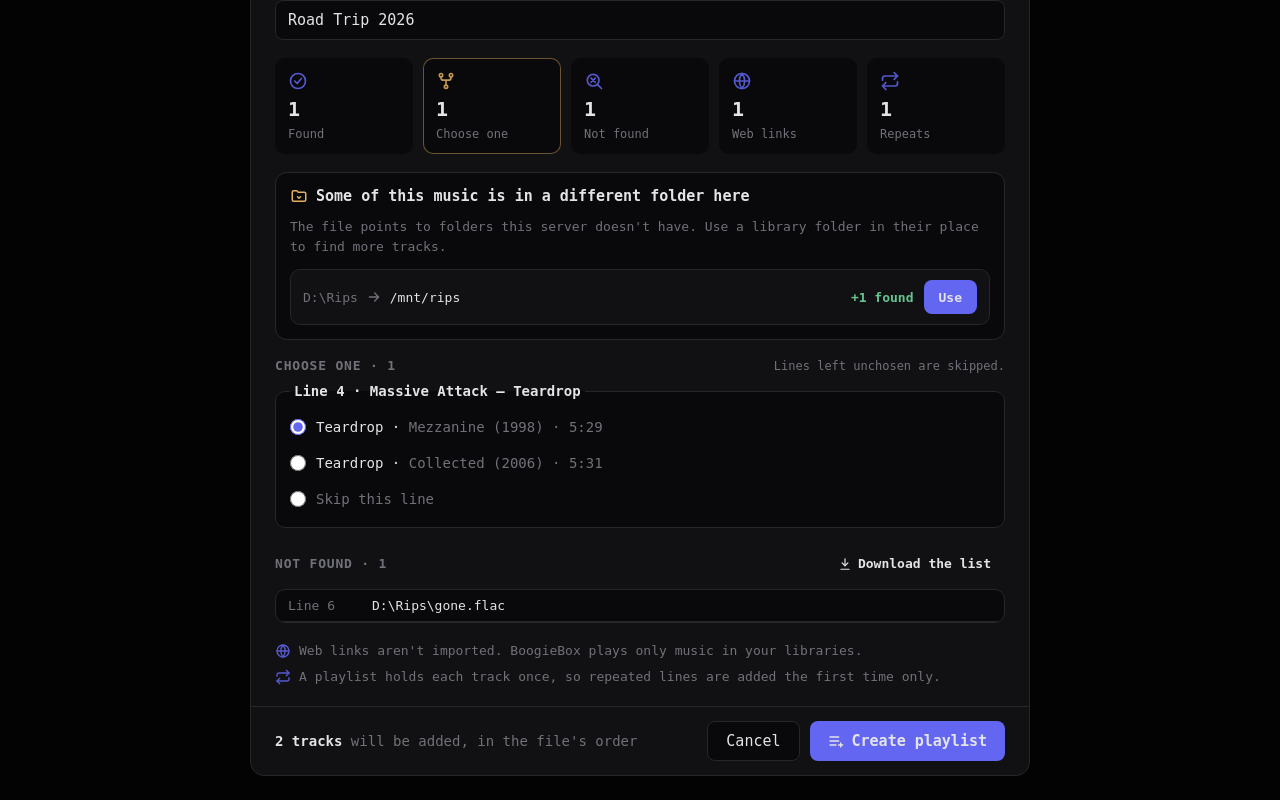
it: PlaylistImportDialog › shows the name-taken error under the name and other failures as an alert
This screenshot has width=1280, height=800.
(page scrolled)
Click the button "Create playlist". click: (907, 741)
box: [810, 721, 1005, 761]
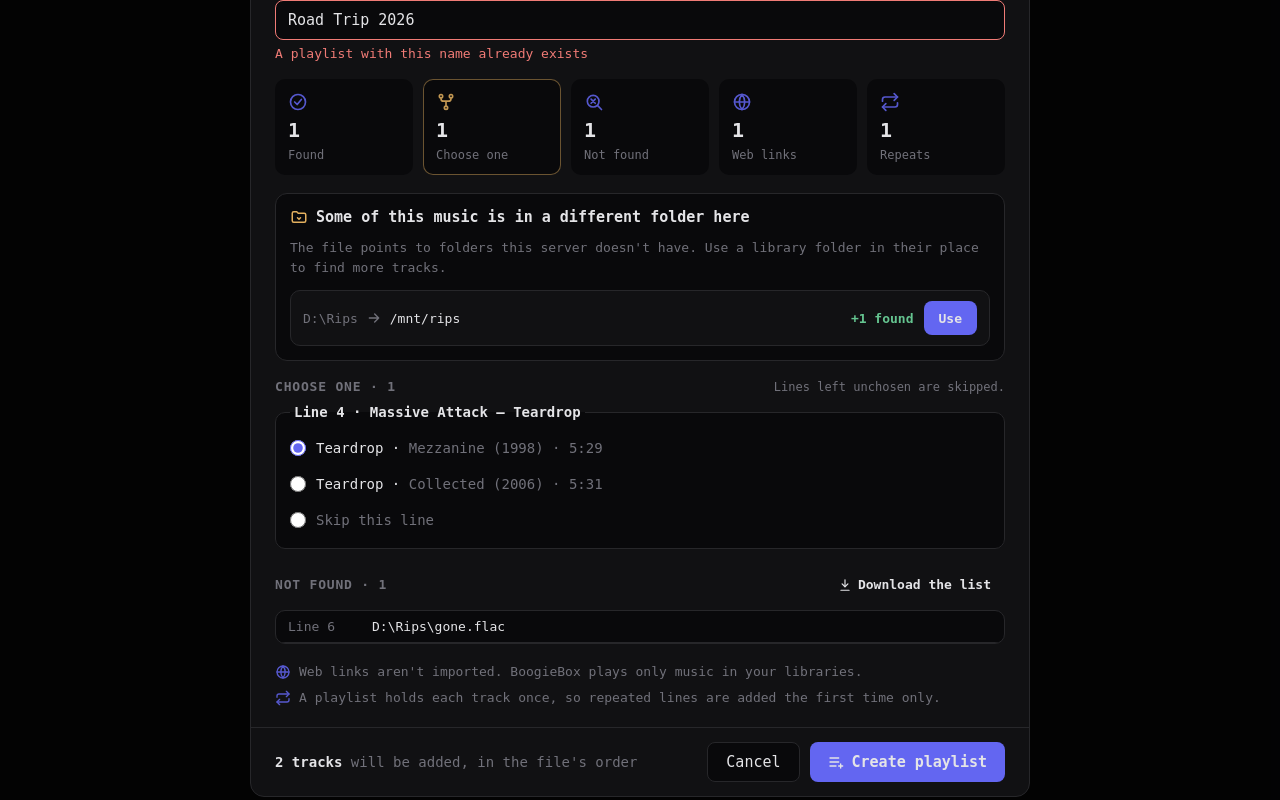
Now the text "A playlist with this name already exists" is shown, box [275, 46, 588, 61]
Replace the text in the field labelled "Playlist name" with "Other". click: (640, 20)
box: [275, 0, 1005, 40]
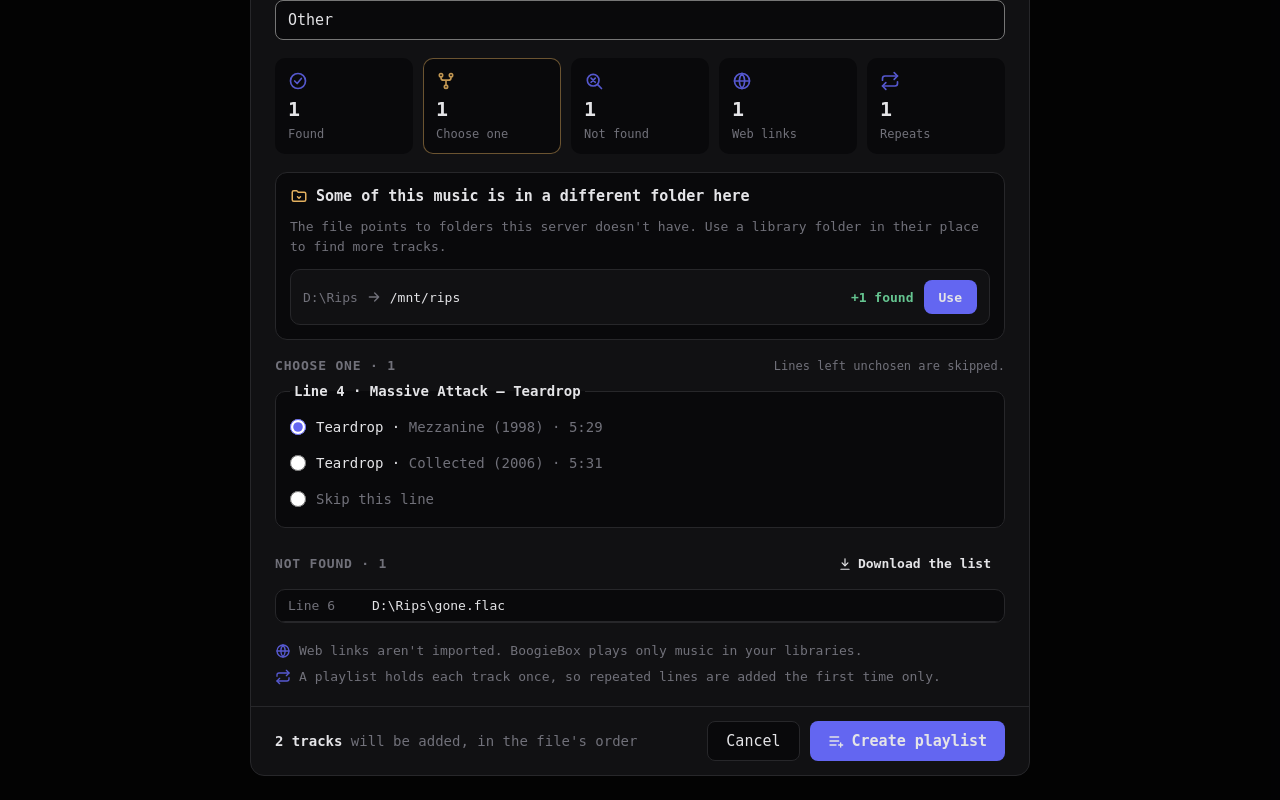
Click the button "Create playlist". click: (907, 741)
box: [810, 721, 1005, 761]
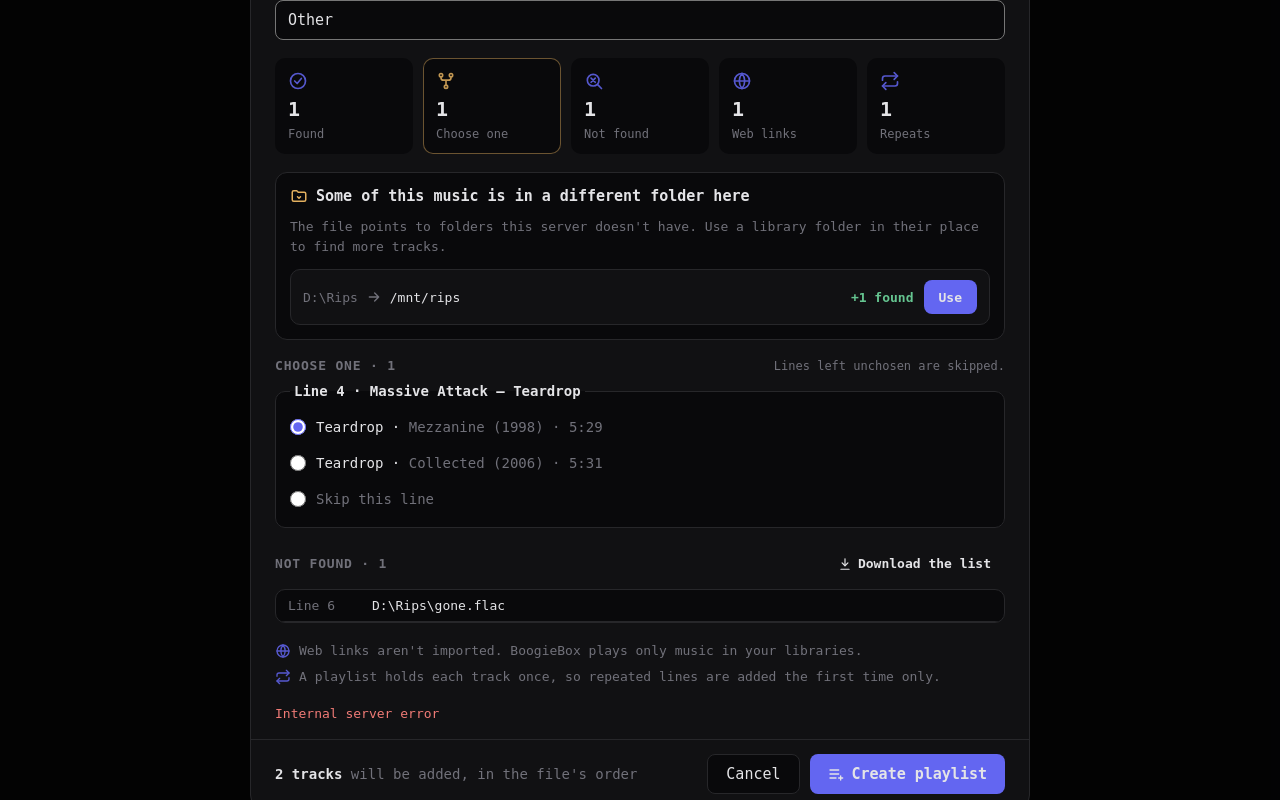
Now the message "Internal server error" is shown, box [275, 706, 439, 721]
